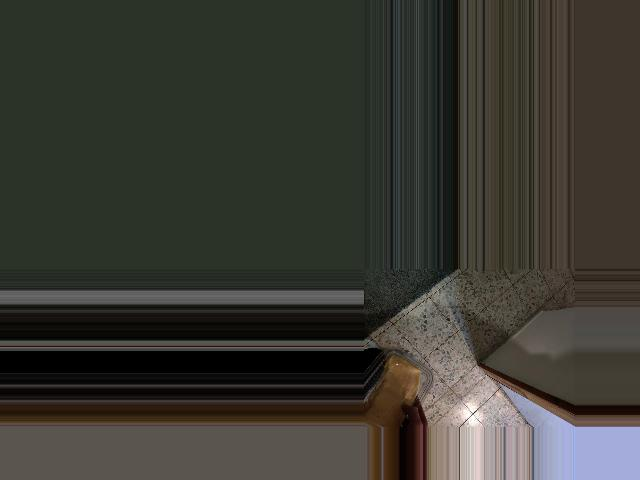cheese: (362, 350, 432, 428)
